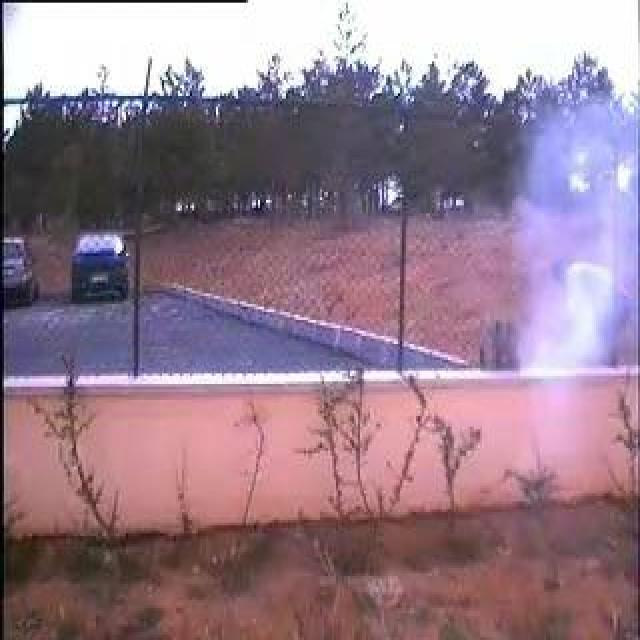Smoke: (511, 129, 619, 367)
